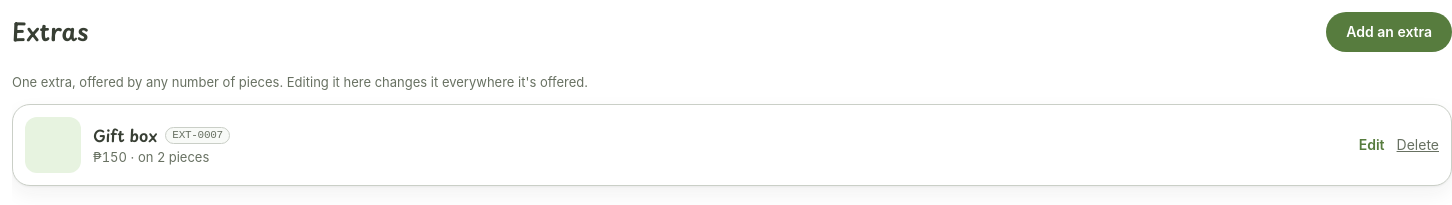
the library of extras › names the count before deleting, because it comes off every piece
Click the button with aria-label "Delete Gift box".
click(1418, 145)  # box [1397, 135, 1439, 155]
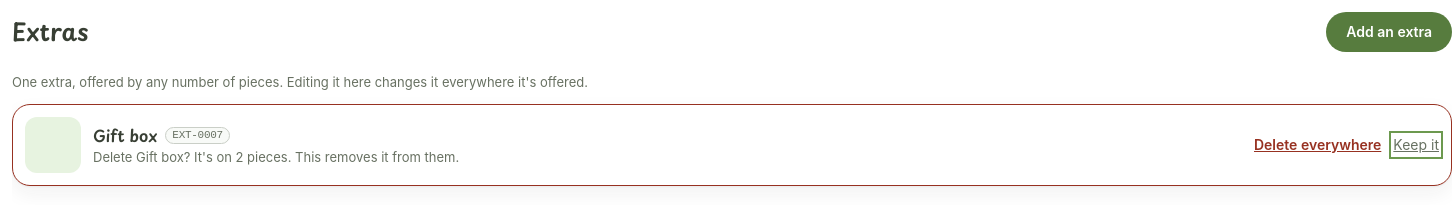
Expected: the text "Delete Gift box? It's on 2 pieces. This removes it from them." is shown, [93, 150, 459, 166]
Now the button "Delete everywhere" is shown, box [1254, 135, 1381, 155]
